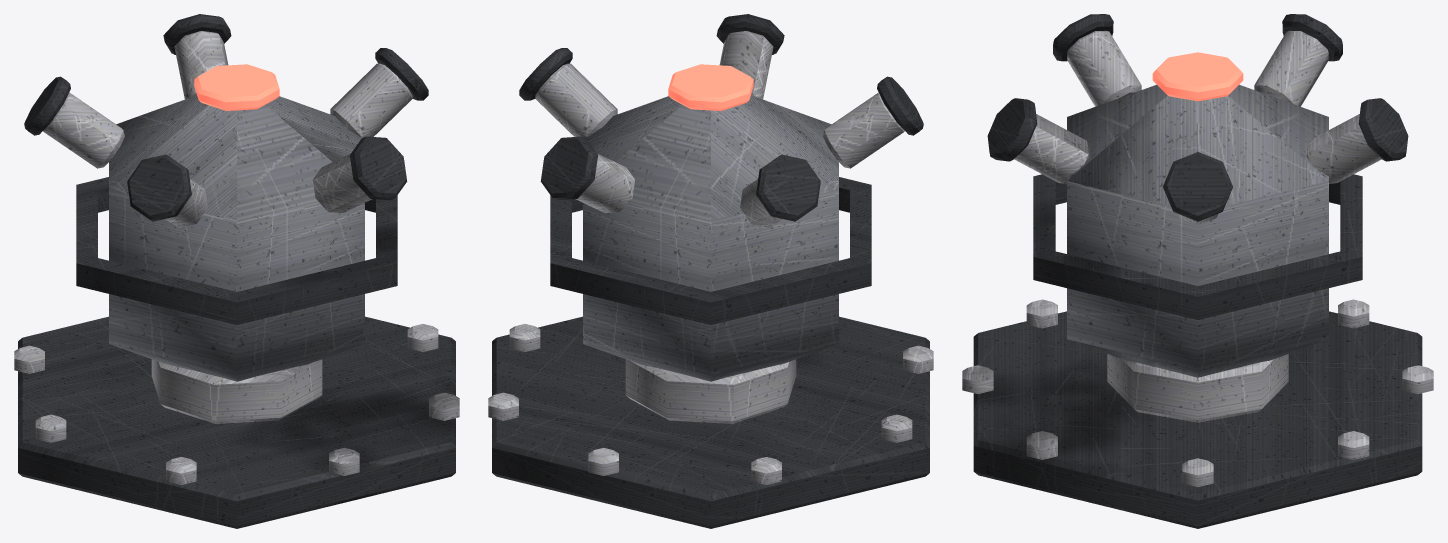
Rendered from R4D_ExplosiveTrap_LOD1.glb.
3 views of the same model, side by side, from view 1: azimuth 30°, elevation 25°; view 2: azimuth 150°, elevation 25°; view 3: azimuth 270°, elevation 25° (orthographic). The views are drawn at different scales.
Parts seen in each view (by area): view 1: R4D_ExplosiveTrap_LOD1; view 2: R4D_ExplosiveTrap_LOD1; view 3: R4D_ExplosiveTrap_LOD1.
Boxes of the visible parts, x1,y1,x2,y2 form: R4D_ExplosiveTrap_LOD1: (14,14,459,528); R4D_ExplosiveTrap_LOD1: (488,14,933,528); R4D_ExplosiveTrap_LOD1: (962,14,1433,528).
Size of the model in its own units: 0.4 by 0.3 by 0.3642.
4 materials, 3 textured.
